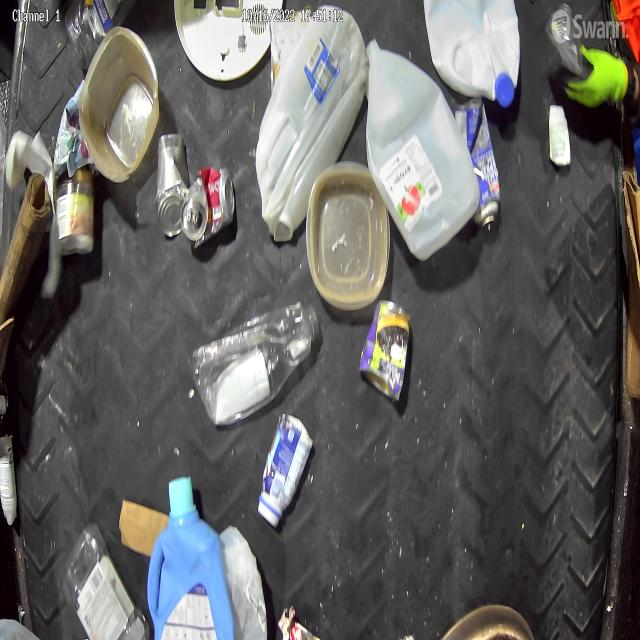can: (453, 96, 502, 234), (358, 299, 412, 405), (180, 164, 237, 249), (155, 132, 190, 238)
milk_jug: (255, 4, 369, 244), (365, 37, 481, 265), (423, 0, 522, 108)
non_white_jug: (146, 473, 235, 640)
plastic_bottle: (190, 301, 320, 430), (60, 520, 150, 640)
